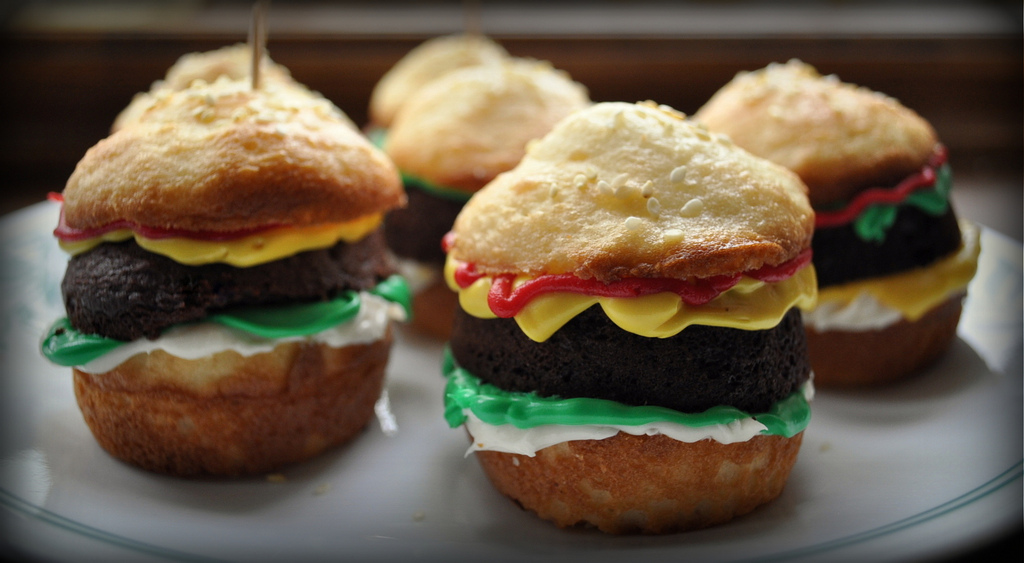slice of bread: (450, 128, 805, 268), (61, 97, 378, 246), (488, 423, 821, 531), (81, 360, 406, 466), (709, 66, 938, 166)
